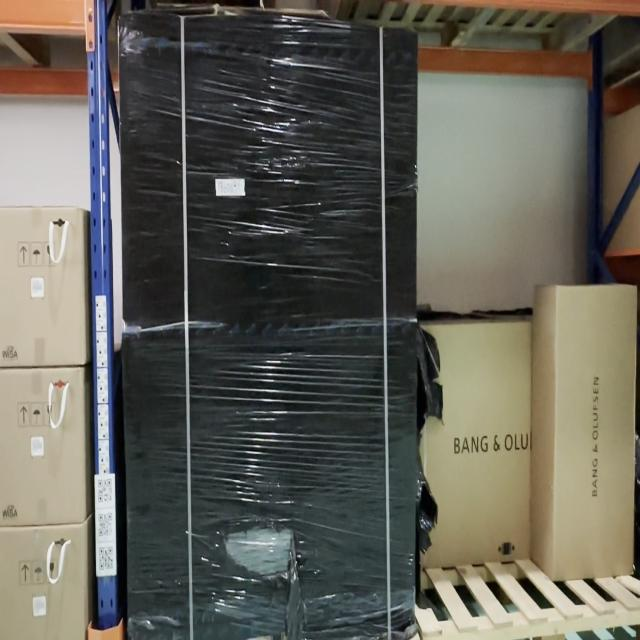box: (557, 284, 633, 579)
